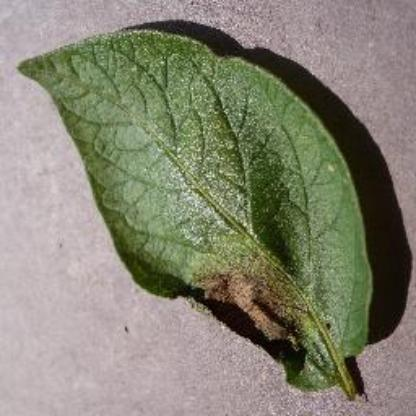Late-Blight: (19, 19, 383, 404)
